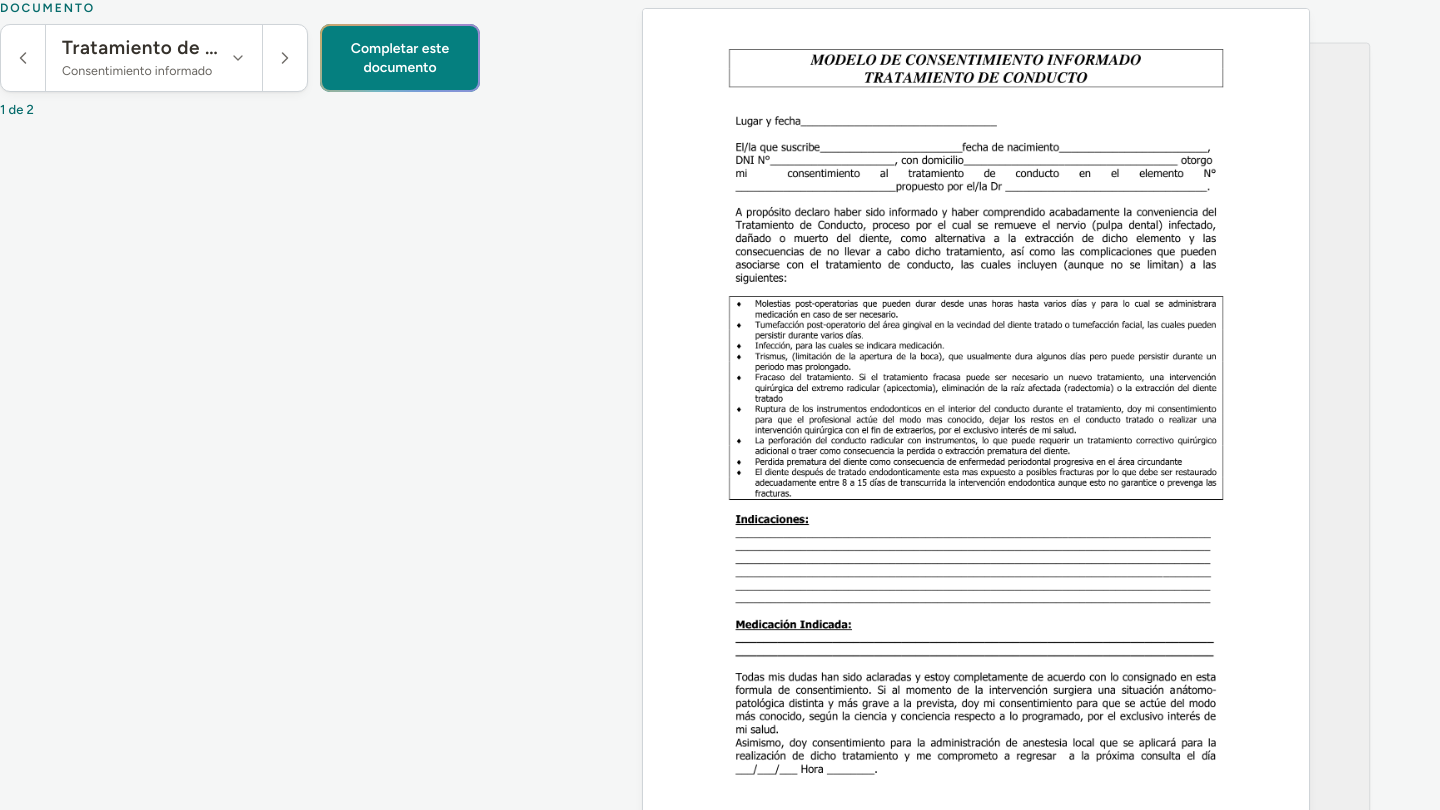
ModuloDocumentos › completar pide el paciente con el buscador de «Paciente conocido», y elegirlo crea el documento
Click the button "Completar este documento" at x=400, y=58, box [320,24,480,92]
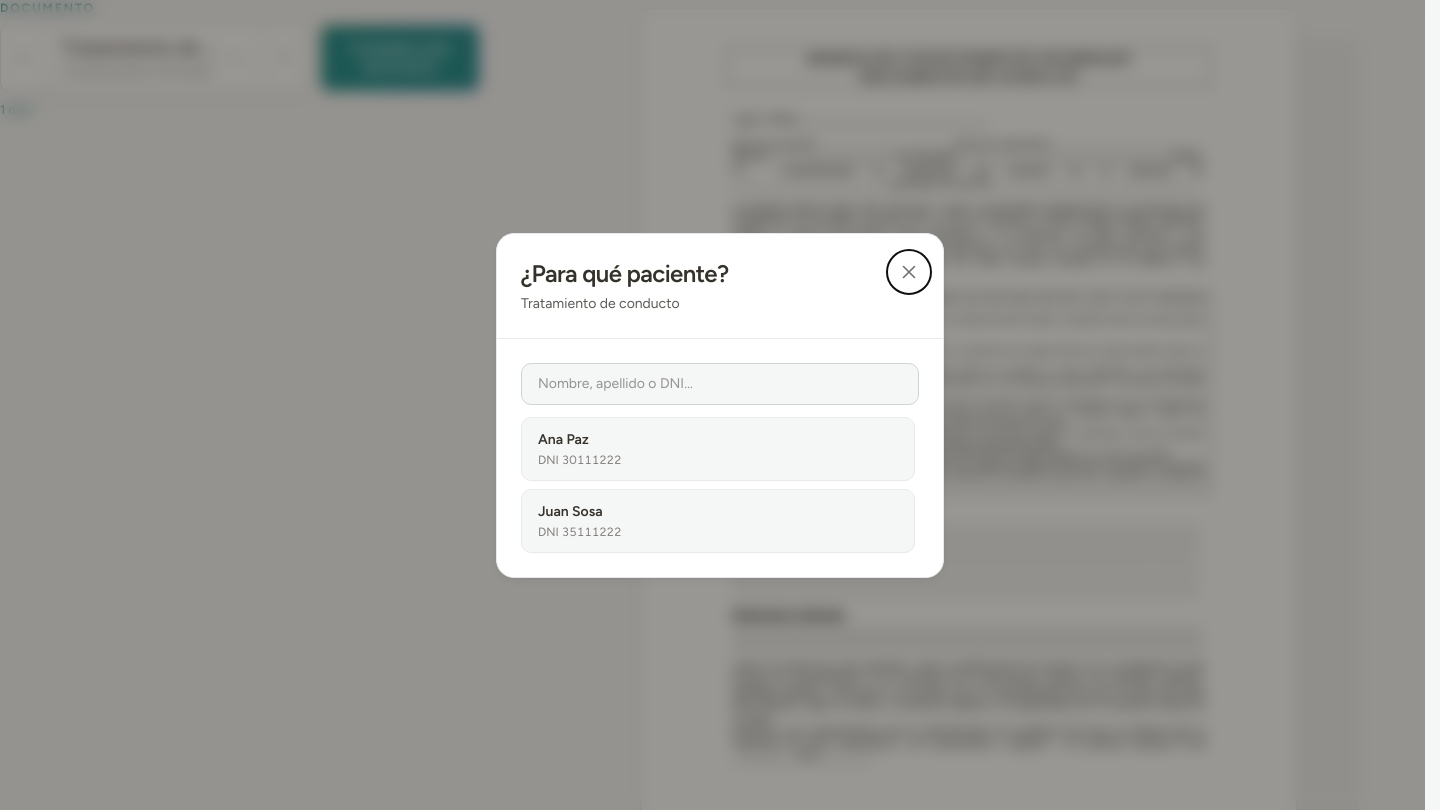
Result: the dialog "¿Para qué paciente?" is shown at [496,232,944,578]
Result: the button "Ana Paz DNI 30111222" is shown at [521,416,915,480]
Type "Juan" into the search field named "Buscar paciente" at x=720, y=384, box [521,362,919,404]
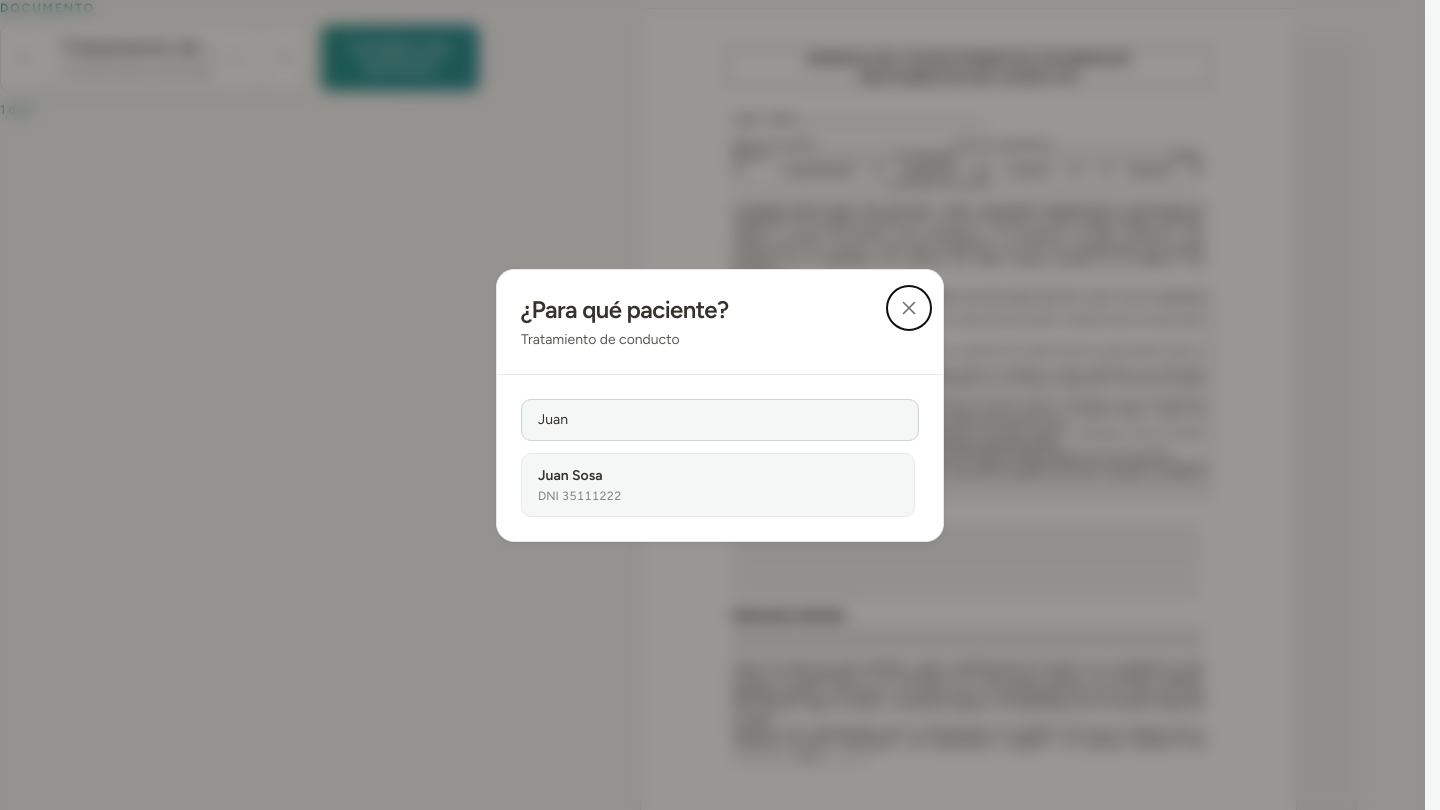
Result: the button "Ana Paz" is gone
Click the button "Juan Sosa DNI 35111222" at x=553, y=475, box [521,452,915,516]
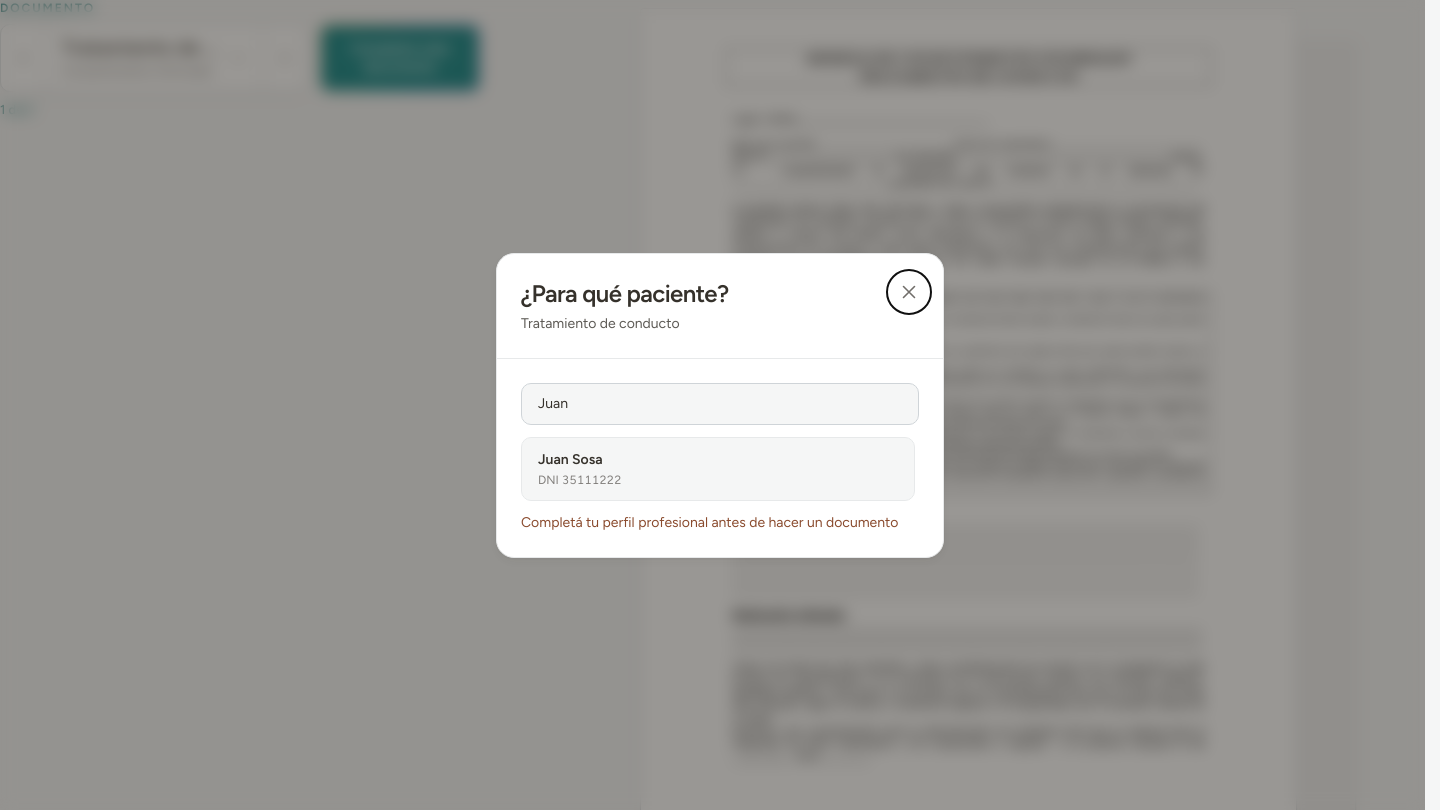
Result: the message shows "completá tu perfil profesional" at [521,514,898,530]
